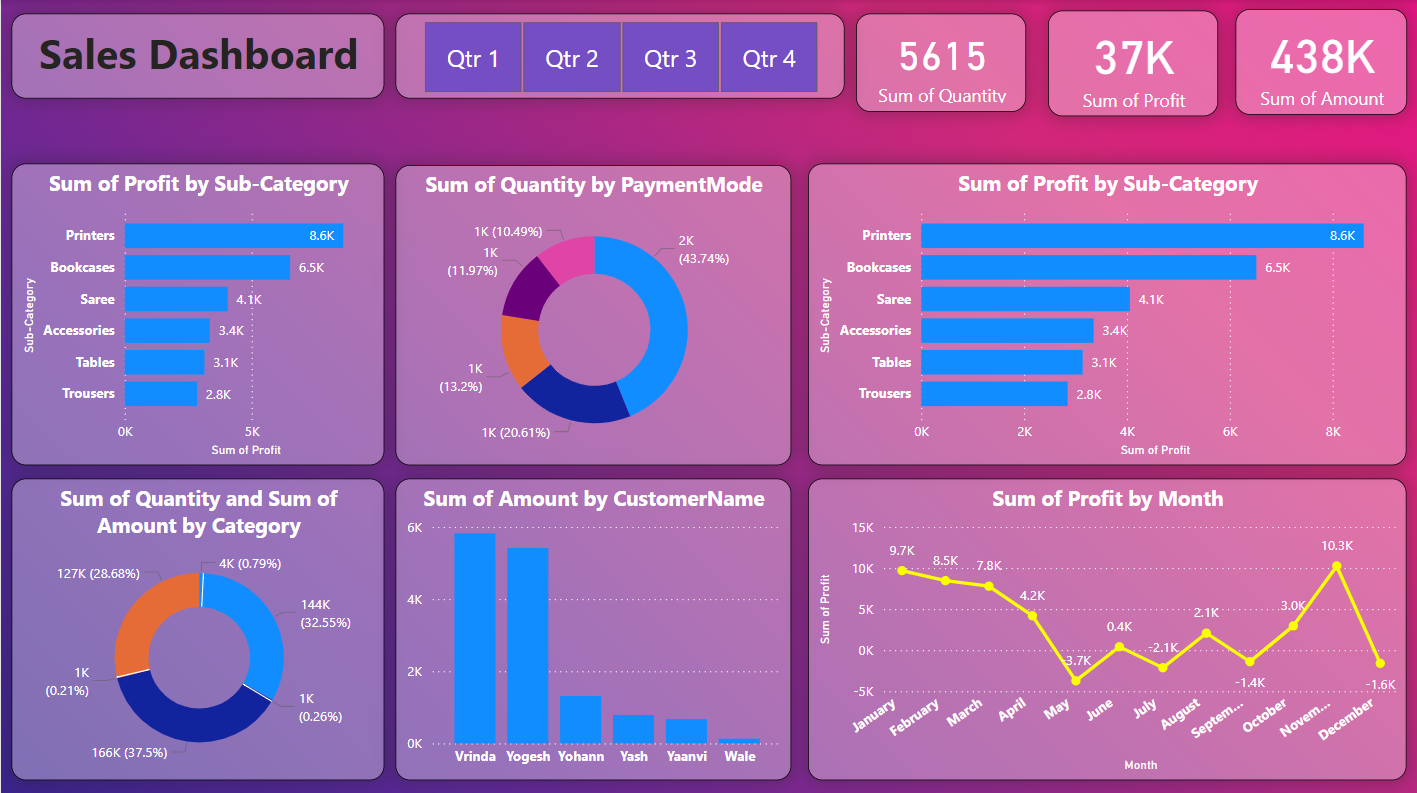

Layout of this report page (visuals, bound fields, positions):
{"tool":"powerbi","page":{"name":"Page 1","canvas":[1280,720],"ordinal":0},"visuals":[{"type":"textbox","box":[9.4,12.1,336.3,76.7],"z":0},{"type":"lineChart","fields":{"Category":["Orders.Order Date.Variation.Date Hierarchy.Month"],"Y":["Sum(Details.Profit)"]},"box":[727.7,431.8,539.4,271.7],"z":1000},{"type":"barChart","fields":{"Y":["Sum(Details.Profit)"],"Category":["Details.Sub-Category"]},"box":[727.7,148,539.4,271.7],"z":2000},{"type":"donutChart","fields":{"Y":["Sum(Details.Quantity)","Sum(Details.Amount)"],"Category":["Details.Category"]},"box":[9.4,431.8,336.3,271.7],"z":3000},{"type":"donutChart","fields":{"Y":["Sum(Details.Quantity)"],"Category":["Details.PaymentMode"]},"box":[355.1,149.3,356.5,270.4],"z":4000},{"type":"card","fields":{"Values":["Sum(Details.Amount)"]},"box":[1112.4,8.1,154.7,95.5],"z":5000},{"type":"card","fields":{"Values":["Sum(Details.Profit)"]},"box":[942.9,9.4,153.3,95.5],"z":6000},{"type":"card","fields":{"Values":["Sum(Details.Quantity)"]},"box":[770.7,12.1,153.3,88.8],"z":7000},{"type":"barChart","fields":{"Y":["Sum(Details.Profit)"],"Category":["Details.Sub-Category"]},"box":[9.4,148,336.3,271.7],"z":8000},{"type":"lineStackedColumnComboChart","fields":{"Category":["Orders.CustomerName"],"Y":["Sum(Details.Amount)"]},"box":[355.1,431.8,356.5,271.7],"z":9000},{"type":"slicer","fields":{"Values":["Orders.Order Date.Variation.Date Hierarchy.Quarter"]},"box":[355.1,12.1,404.9,76.7],"z":10000}]}

Visuals, with their boxes in screenshot pixels (x1, y1, x2, y2), scaled from the page's 1280x720 canvas onto the 1417x793 screenshot:
textbox: select_region(10, 13, 383, 98)
lineChart - Orders.Order Date.Variation.Date Hierarchy.Month x Sum(Details.Profit): select_region(806, 476, 1403, 775)
barChart - Sum(Details.Profit) x Details.Sub-Category: select_region(806, 163, 1403, 462)
donutChart - Sum(Details.Quantity) x Sum(Details.Amount): select_region(10, 476, 383, 775)
donutChart - Sum(Details.Quantity) x Details.PaymentMode: select_region(393, 164, 788, 462)
card - Sum(Details.Amount): select_region(1231, 9, 1403, 114)
card - Sum(Details.Profit): select_region(1044, 10, 1214, 116)
card - Sum(Details.Quantity): select_region(853, 13, 1023, 111)
barChart - Sum(Details.Profit) x Details.Sub-Category: select_region(10, 163, 383, 462)
lineStackedColumnComboChart - Orders.CustomerName x Sum(Details.Amount): select_region(393, 476, 788, 775)
slicer - Orders.Order Date.Variation.Date Hierarchy.Quarter: select_region(393, 13, 841, 98)
